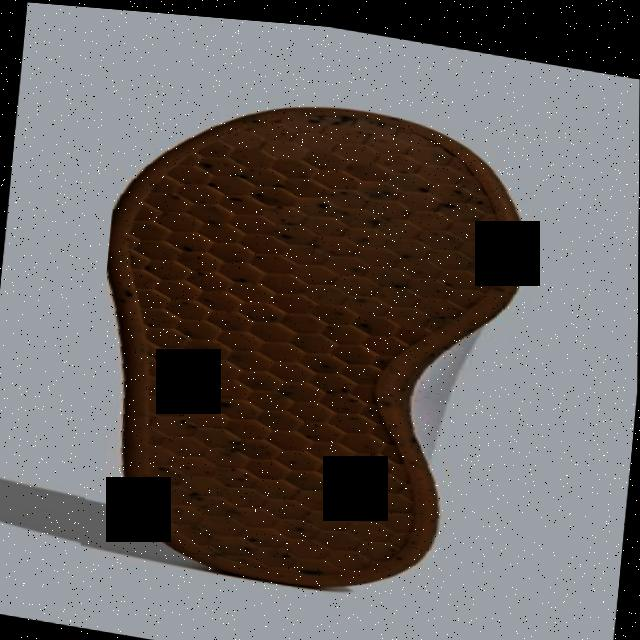shoe: (80, 61, 561, 625)
